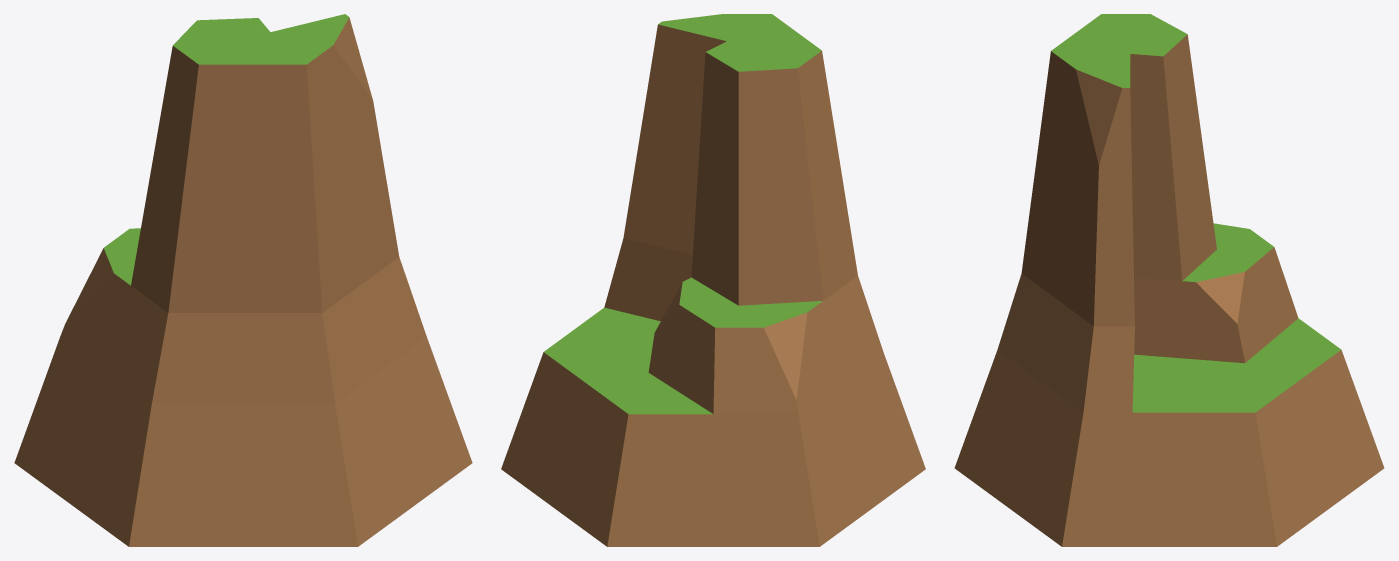
Rendered from rock_tallH.glb.
3 renders of one model, left to right at view 1: azimuth 30°, elevation 25°; view 2: azimuth 150°, elevation 25°; view 3: azimuth 270°, elevation 25°, orthographic. The views are drawn at different scales.
Parts seen in each view (by area): view 1: rock_tallH; view 2: rock_tallH; view 3: rock_tallH.
Part boxes in pixels (bbox=[...]): rock_tallH: bbox=[14, 14, 472, 546]; rock_tallH: bbox=[501, 14, 925, 546]; rock_tallH: bbox=[954, 14, 1384, 546].
Bounding box in the file's own units: 0.5749 × 0.7108 × 0.6639.
